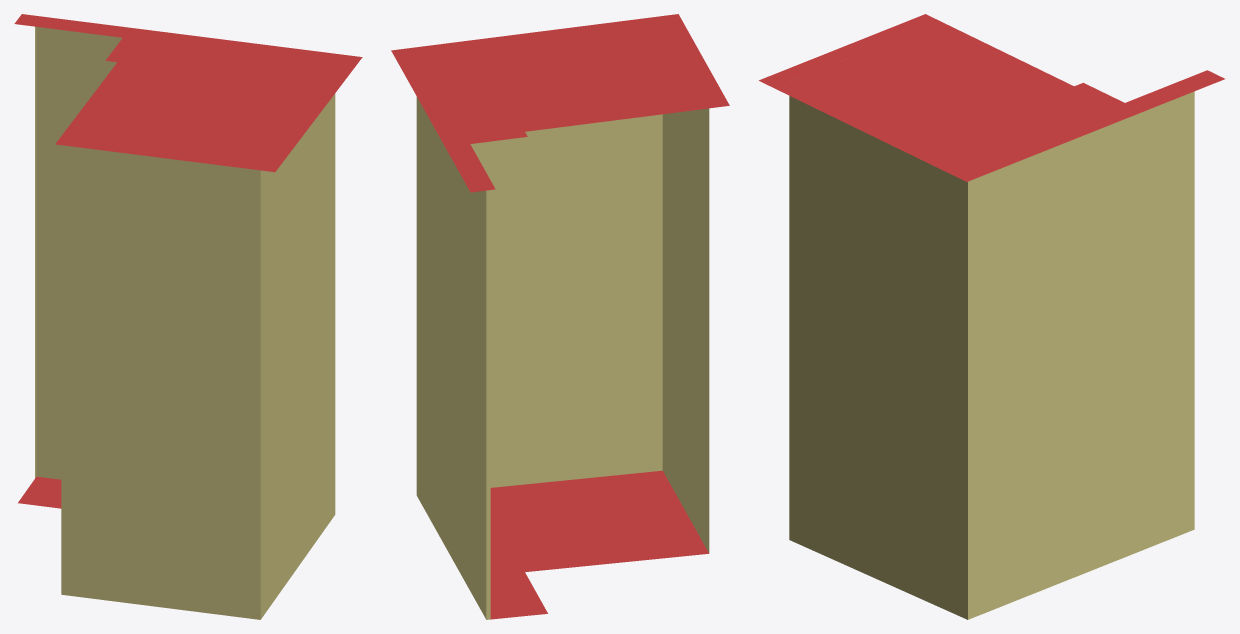
3 views of the same model, side by side, from view 1: azimuth 30°, elevation 25°; view 2: azimuth 150°, elevation 25°; view 3: azimuth 270°, elevation 25° (orthographic). The views are drawn at different scales.
Bounding box in the file's own units: 4.34 × 5.35 × 5.8.
